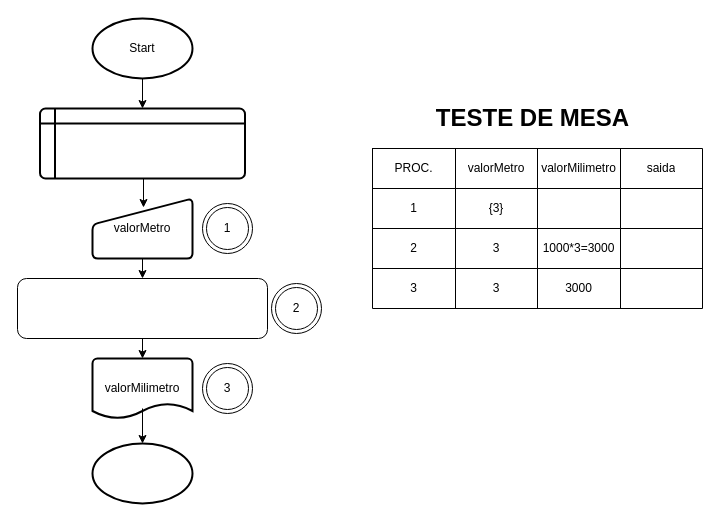
Image size: 720x521. Some labels were removed from this diagram. Here are the shapes that lost their labels. From the top down, the centre of each, then its label:
At point 142,143: "valorMetro, valorMilimetro".
At point 142,308: "valorMilimetro = 1000*valorMetro".
At point 142,473: "End".
